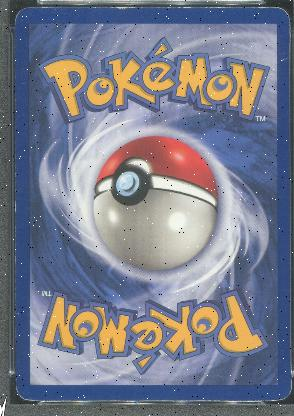Card: (10, 2, 292, 406)
Corner Wear: (12, 5, 42, 33), (258, 380, 290, 402), (13, 376, 40, 402), (285, 12, 292, 42), (93, 6, 139, 10), (38, 6, 59, 7)
Edge Wear: (14, 242, 17, 318), (14, 139, 16, 193), (155, 6, 192, 8), (156, 400, 221, 401), (202, 6, 233, 8), (15, 324, 17, 344), (14, 93, 16, 109), (14, 198, 16, 214), (14, 224, 16, 238), (107, 398, 121, 400), (254, 6, 268, 8), (13, 38, 14, 54)
Scratch: (214, 374, 227, 382), (277, 52, 286, 63), (184, 374, 191, 384), (201, 367, 207, 375)
